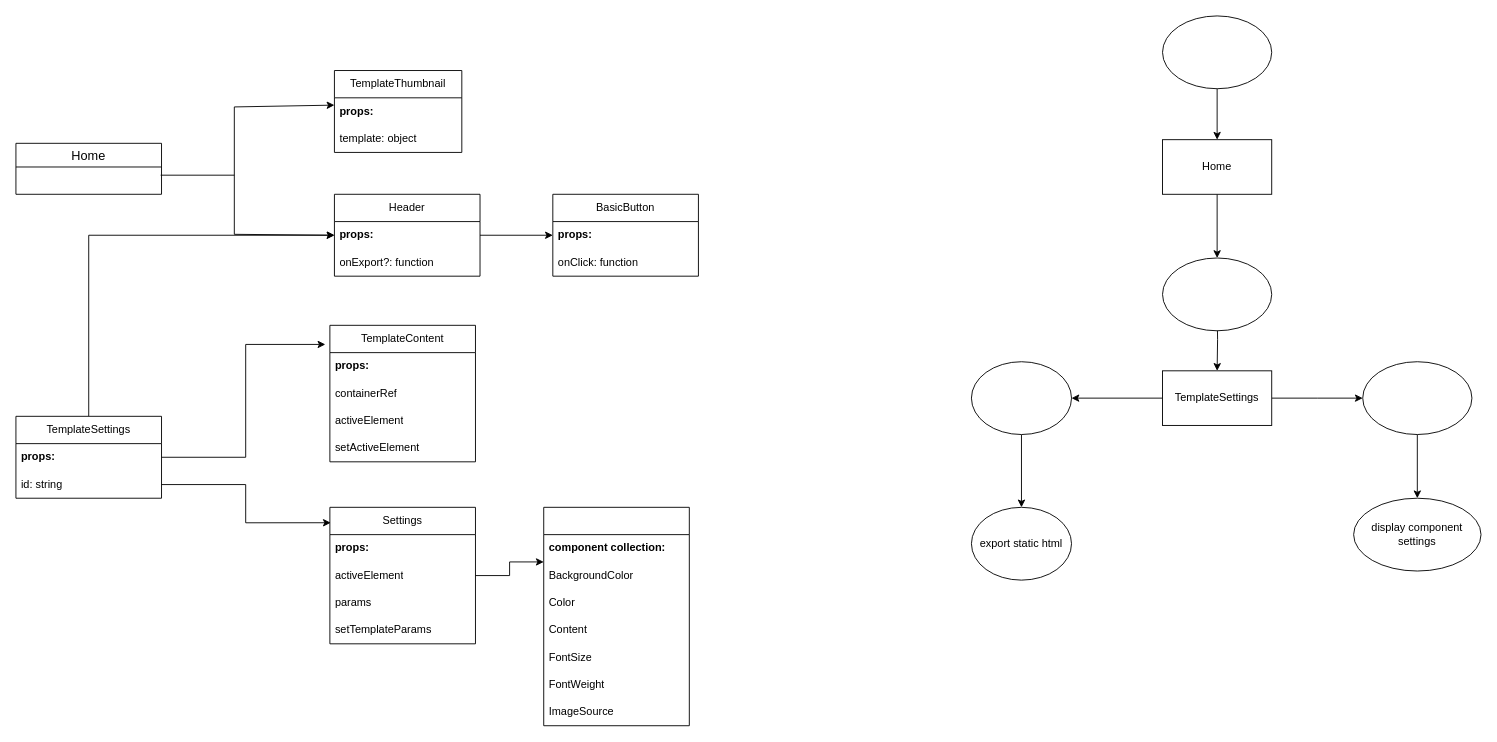
Image size: 1497x742. Some labels were removed from this diagram. Here are the shapes that lost their labels. From the top down, the box of each, then its label:
(1162, 15, 1272, 89): Start
(1162, 257, 1272, 331): click thumbnail
(971, 361, 1072, 435): click "Export" button
(1362, 361, 1472, 435): select component
(543, 506, 689, 726): UISettingComponents
